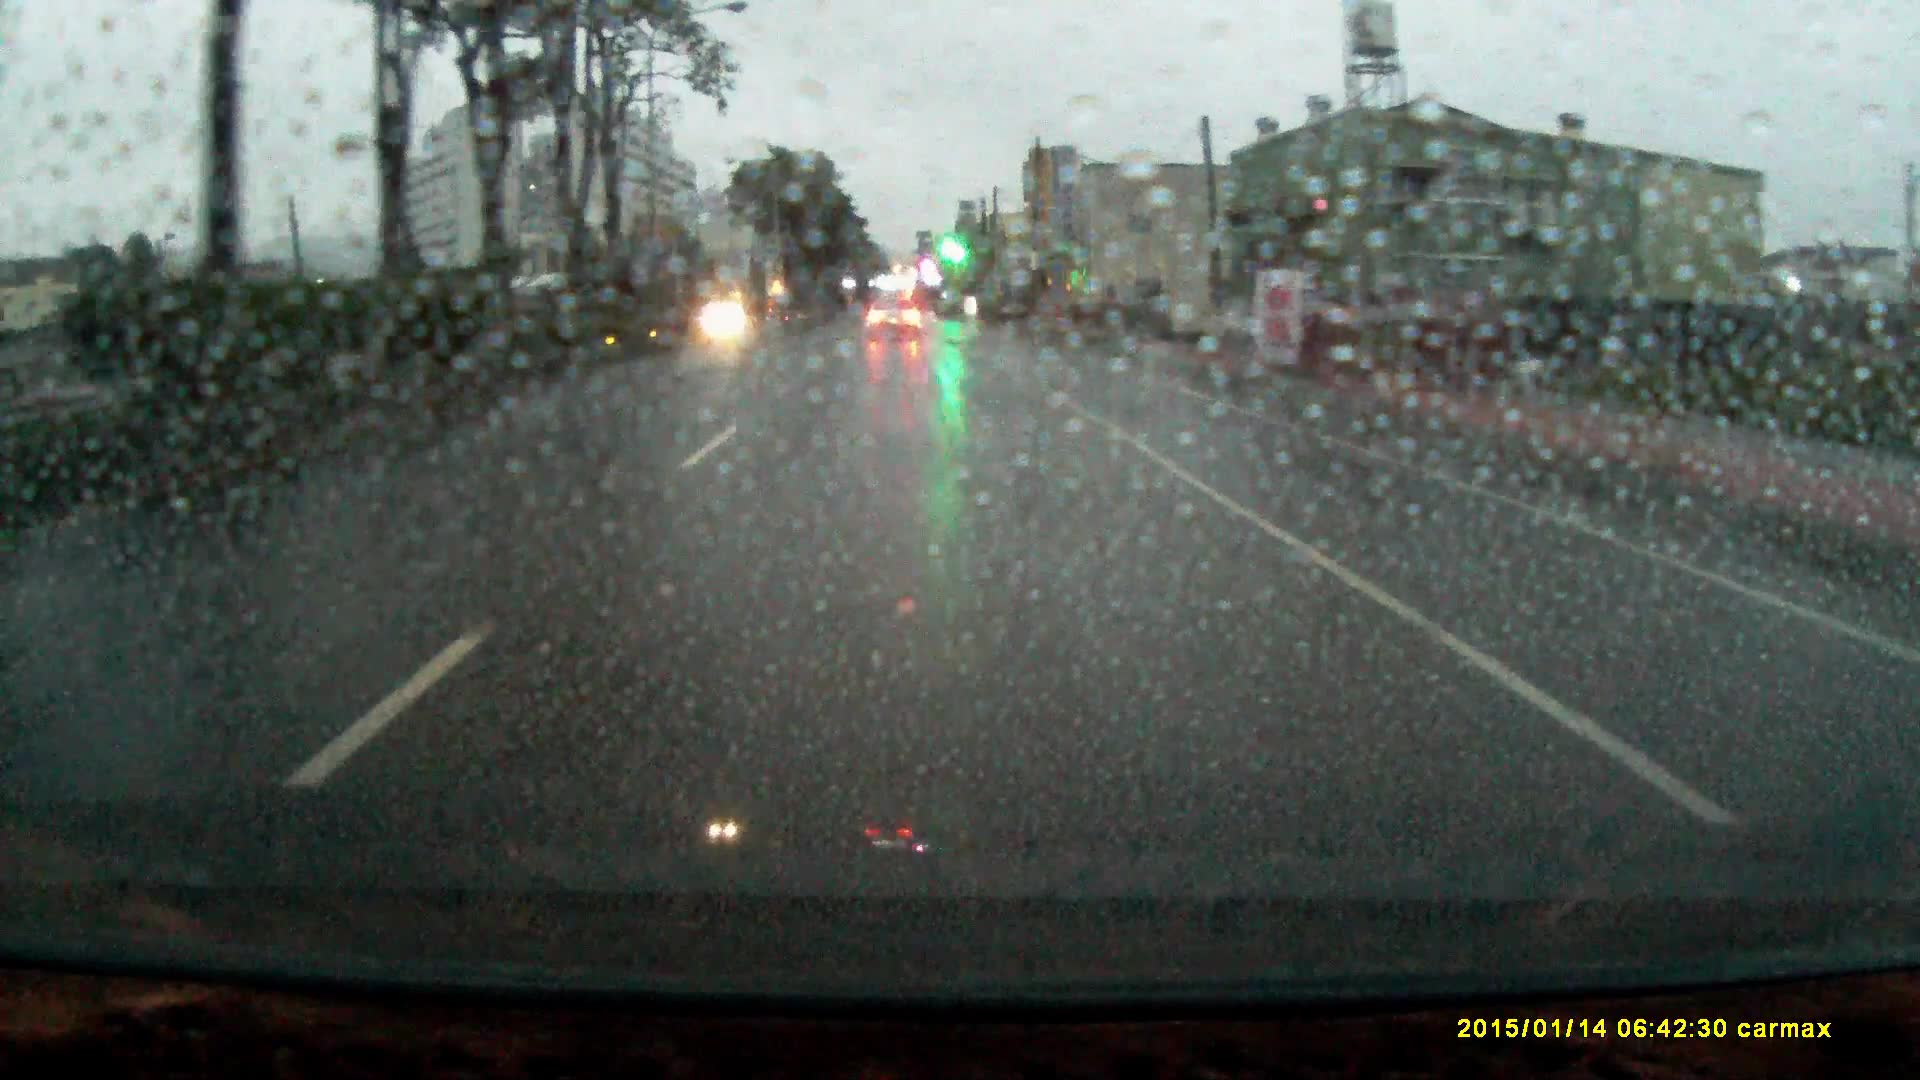vehicle: (866, 297, 922, 339)
